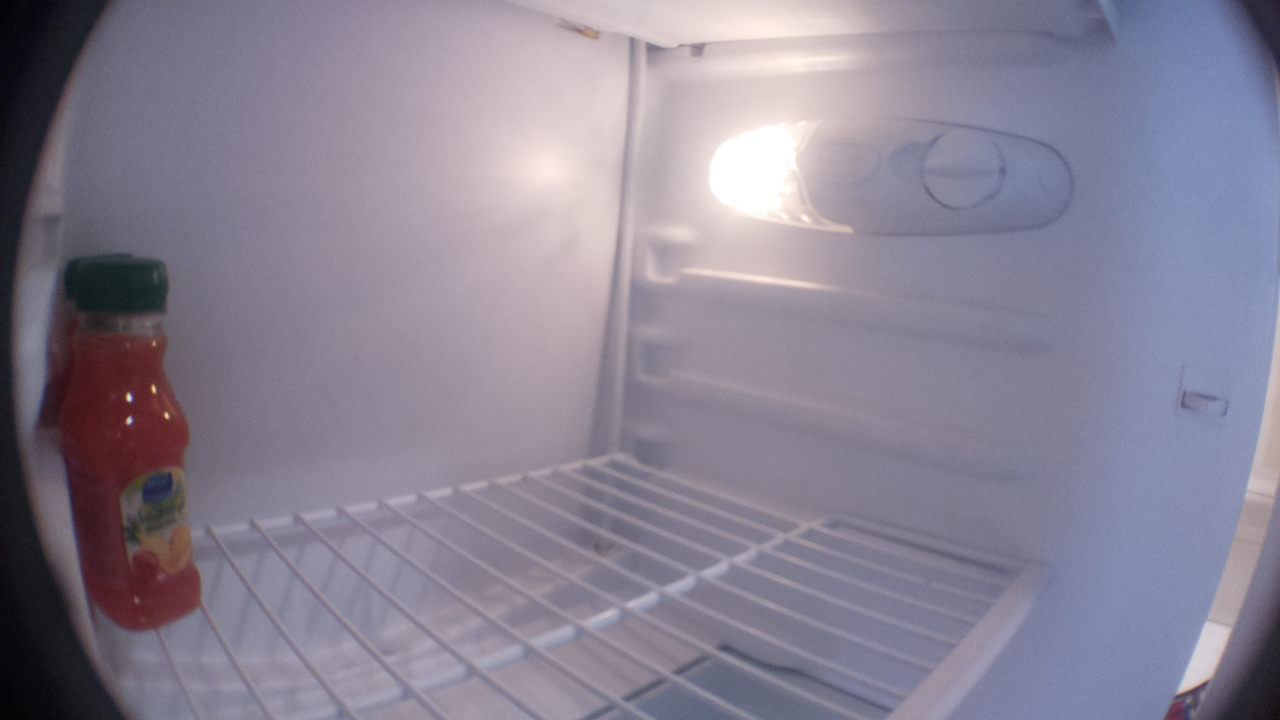juice: (53, 260, 208, 642)
